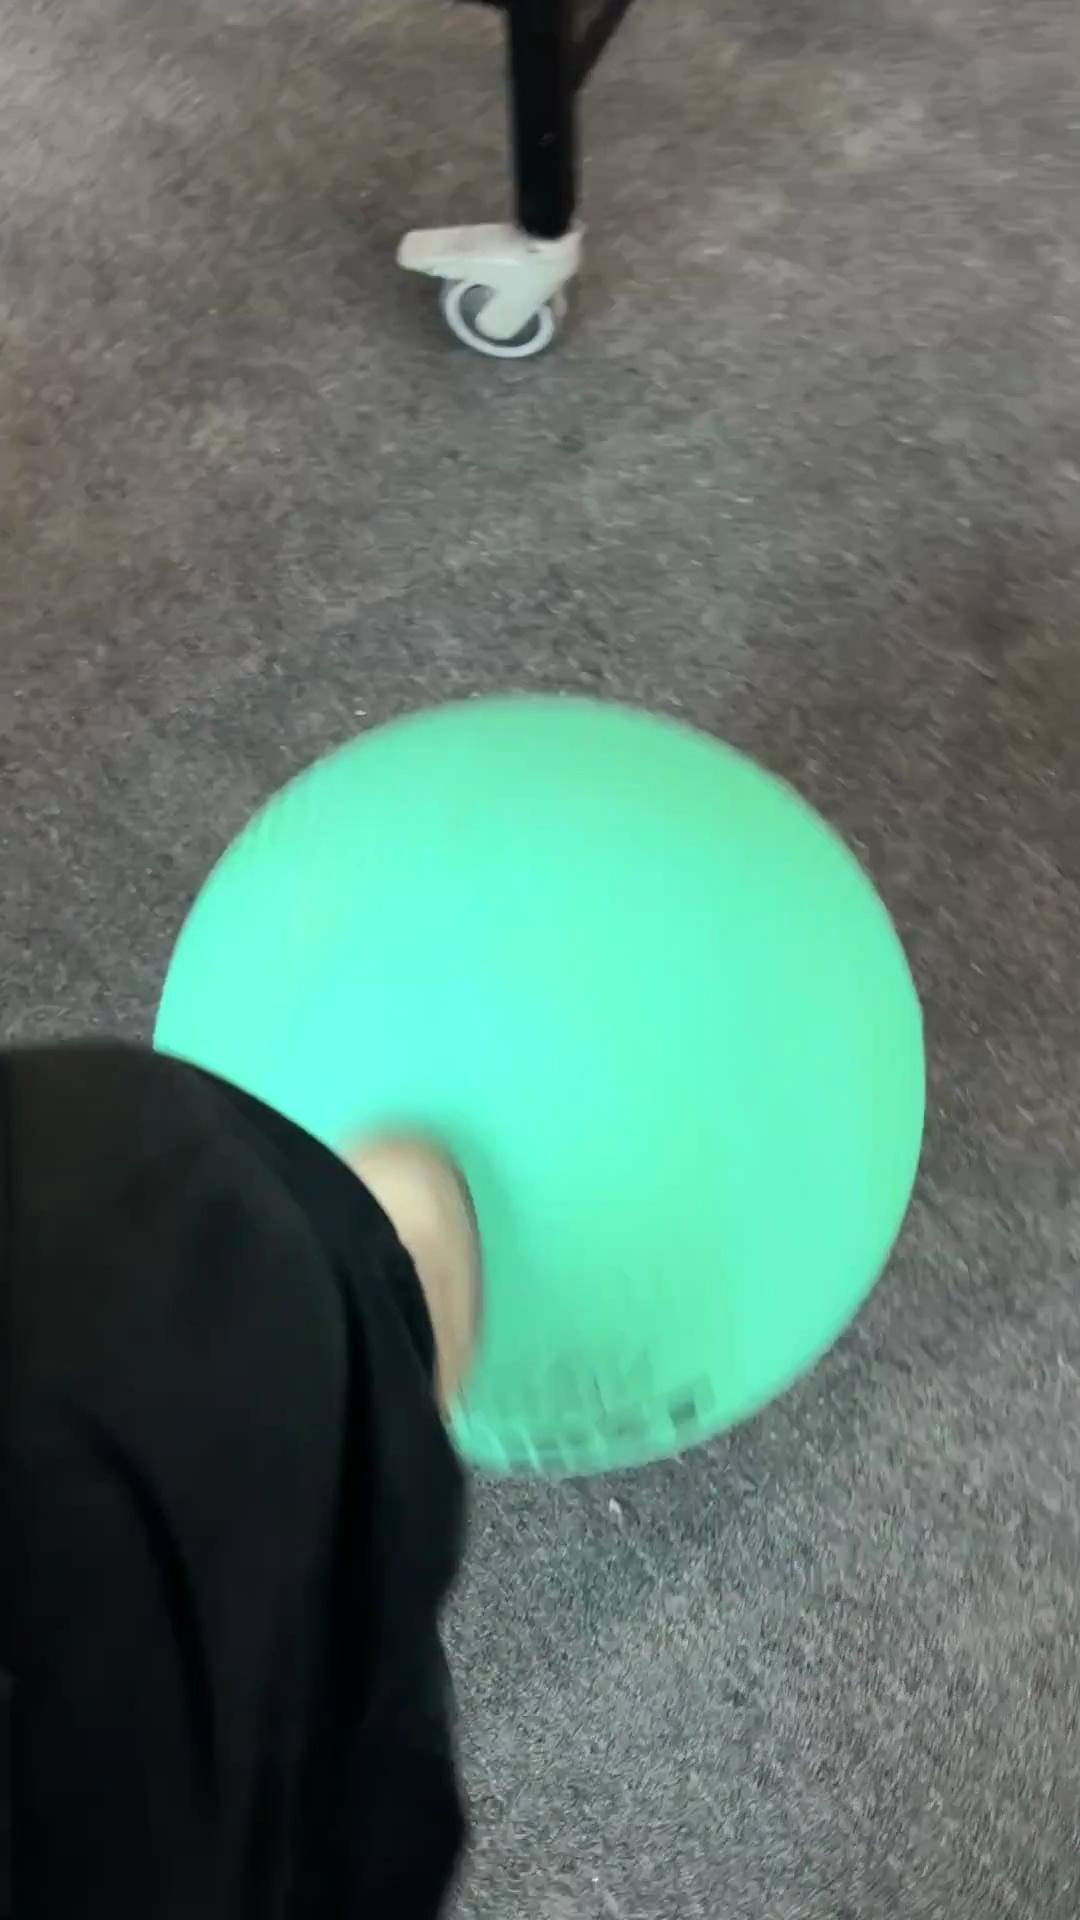ALGAE: (149, 688, 928, 1484)
